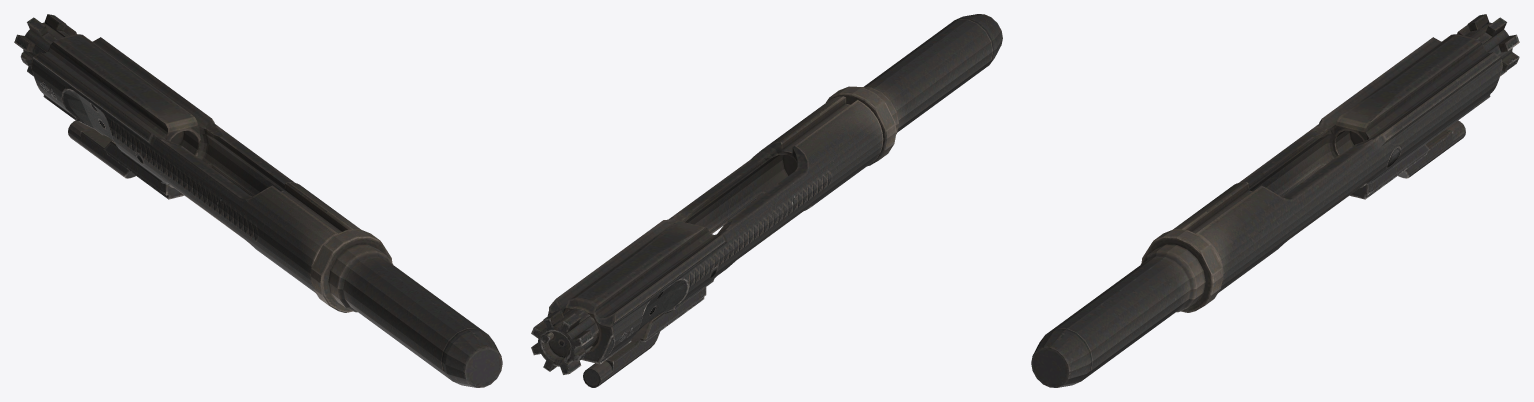
The picture shows the model from 3 angles, left to right: view 1: azimuth 30°, elevation 25°; view 2: azimuth 150°, elevation 25°; view 3: azimuth 330°, elevation 25°; orthographic projection. The views are drawn at different scales.
Visible parts, largest first — view 1: TW_5c07c60e0db834002330051f_PZ_Import; view 2: TW_5c07c60e0db834002330051f_PZ_Import; view 3: TW_5c07c60e0db834002330051f_PZ_Import.
Part boxes in pixels (x1,y1,x2,y2): TW_5c07c60e0db834002330051f_PZ_Import: (14,14,502,387); TW_5c07c60e0db834002330051f_PZ_Import: (531,14,1002,387); TW_5c07c60e0db834002330051f_PZ_Import: (1031,14,1519,387).
Size of the model in its own units: 0.0144 by 0.1537 by 0.0204.
1 material, 1 textured.
